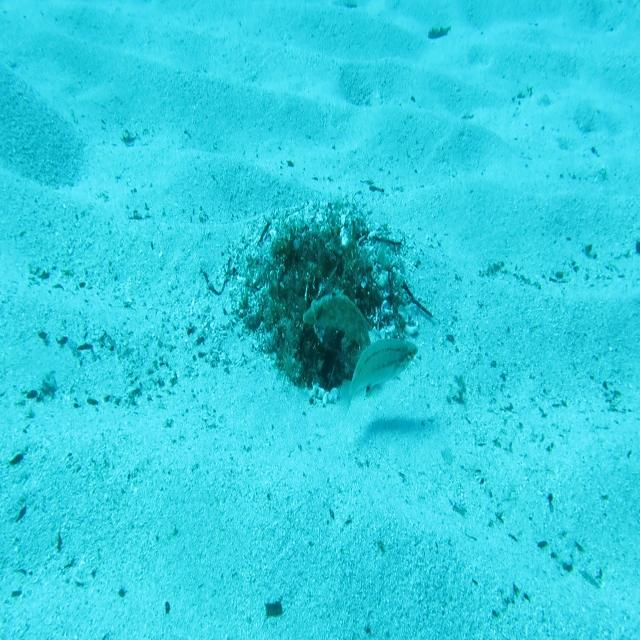BK_SW: (301, 284, 373, 400)
core_nest: (295, 241, 343, 275)
female: (337, 336, 419, 425)
nest: (224, 186, 422, 418)
vegetation: (426, 22, 451, 42)
